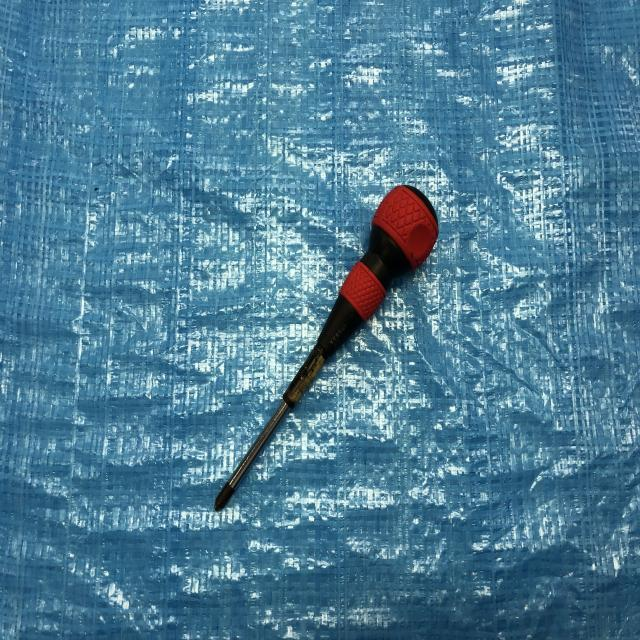screwdriver: (210, 174, 447, 516)
